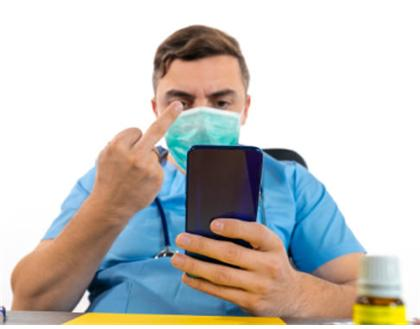insulting_gesture: (90, 100, 183, 214)
